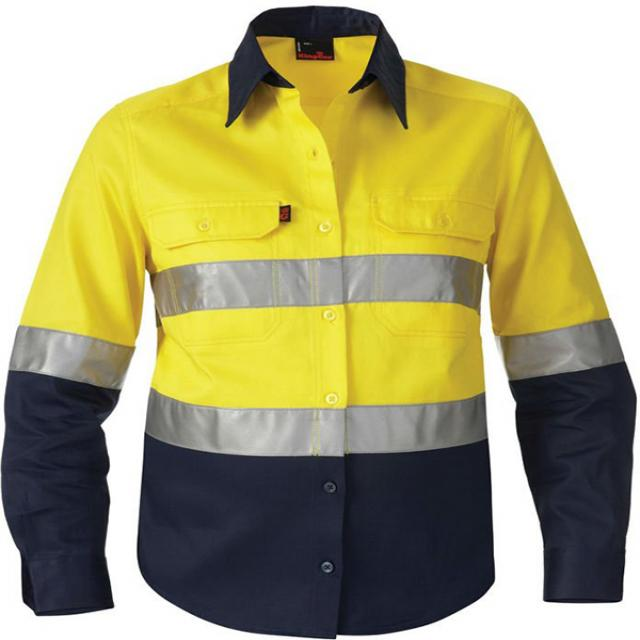Reflective-Jacket: (46, 5, 631, 640)
